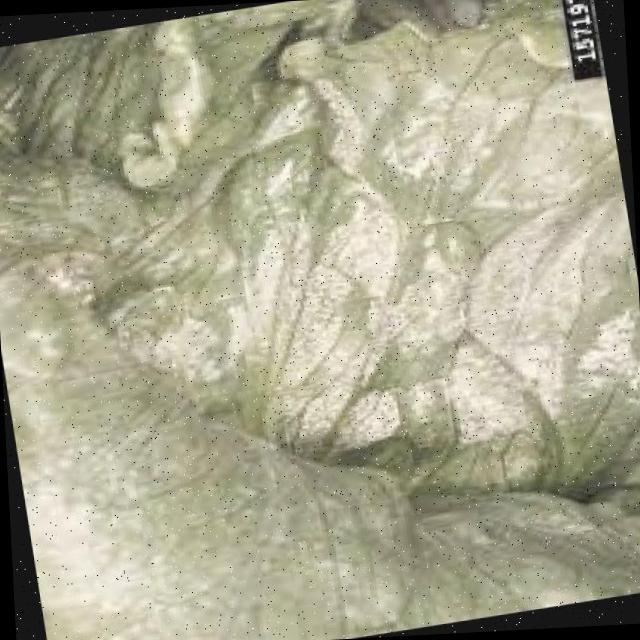Downy_mildew_on_lettuce: (220, 50, 611, 468)
